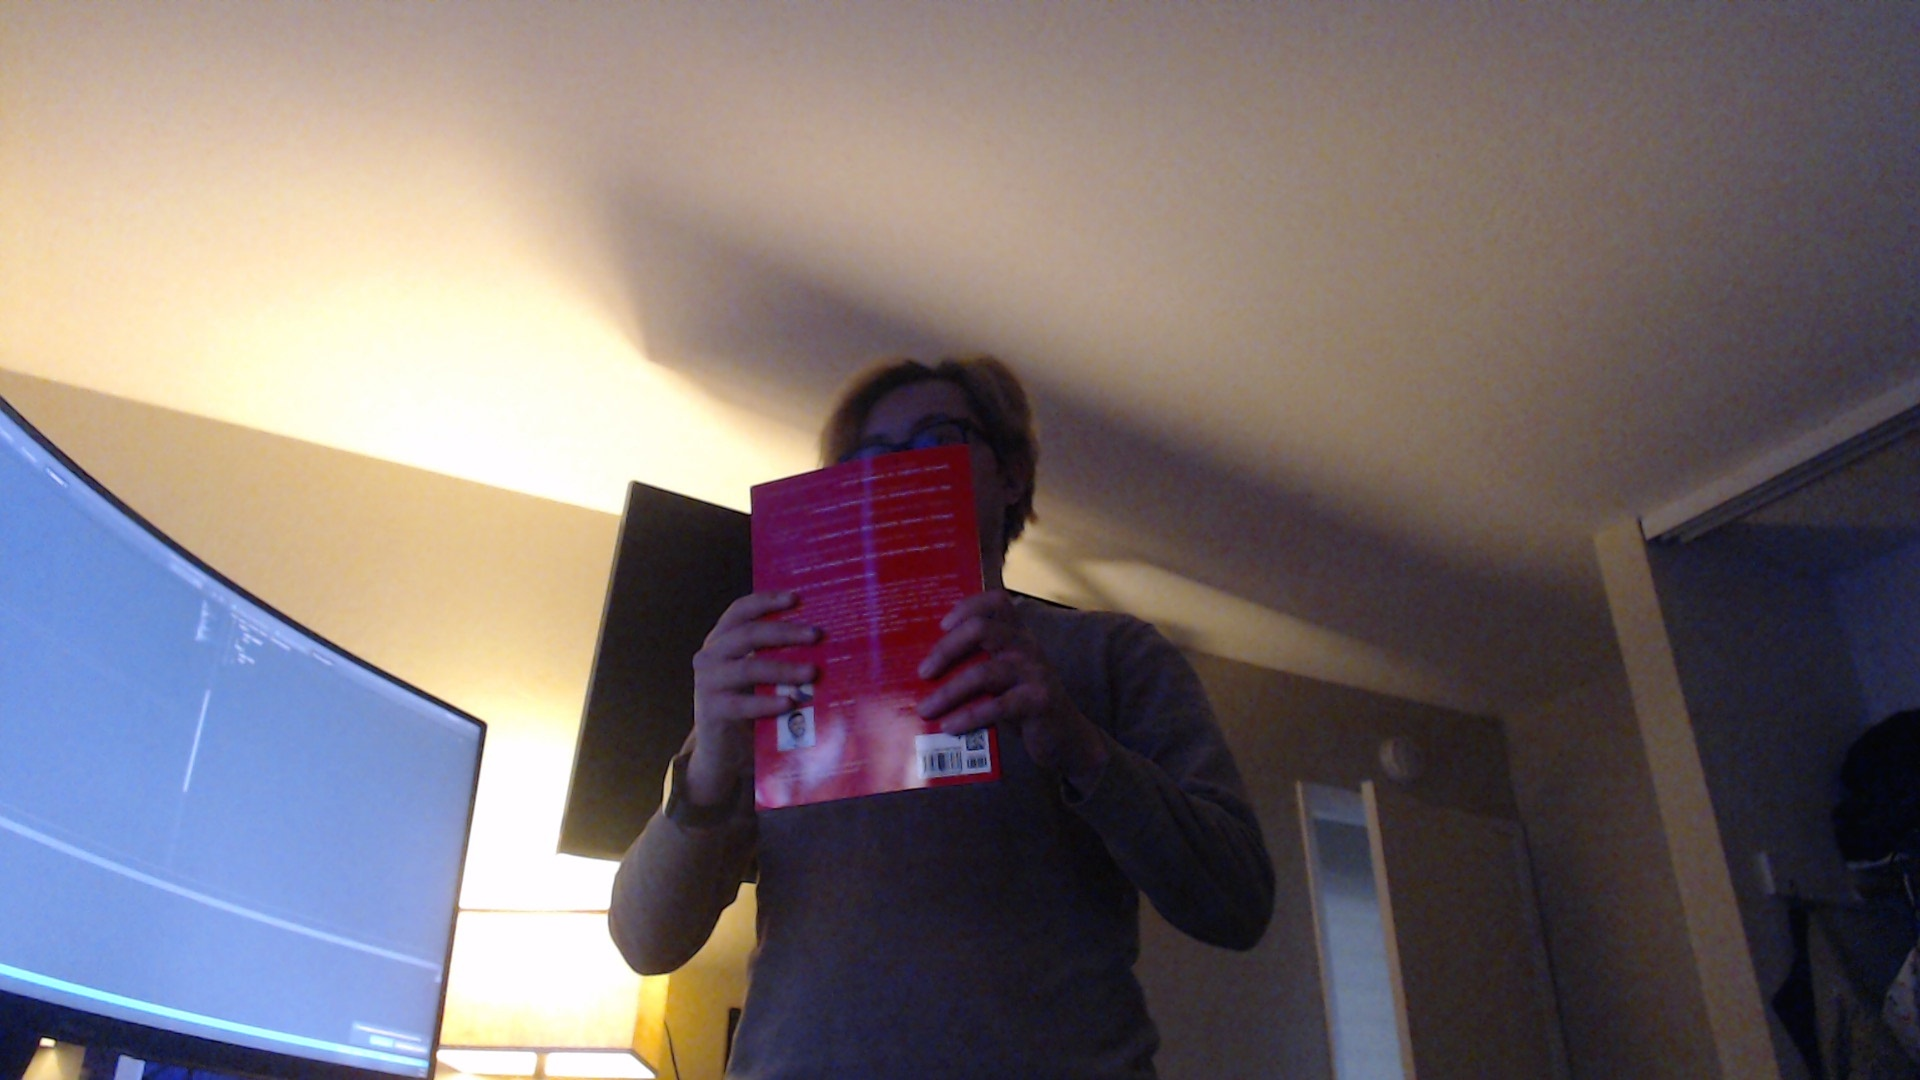book: (752, 438, 1004, 808)
